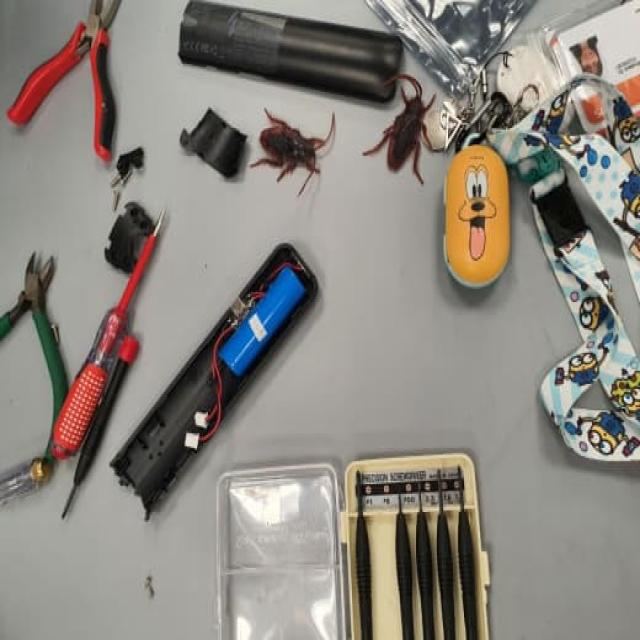Cockroach: (250, 103, 340, 197), (372, 76, 446, 186)
